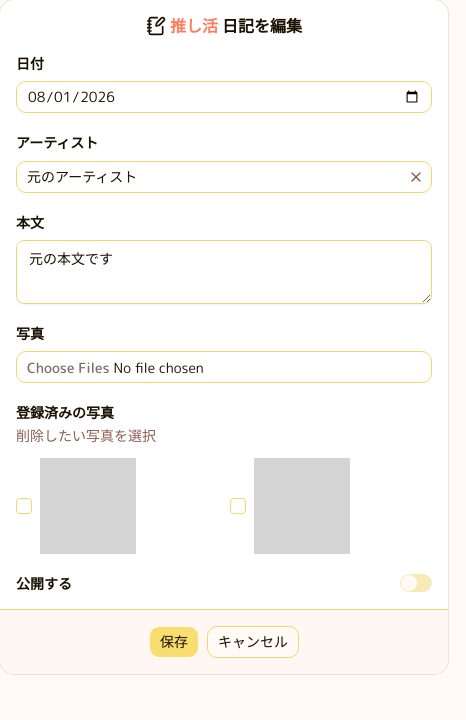
Test: DiaryEditForm › 日付・本文を空にして送信するとバリデーションエラーを表示する
The width and height of the screenshot is (466, 720).
Clear the date field labelled "日付": (224, 97) [16,81,432,113]
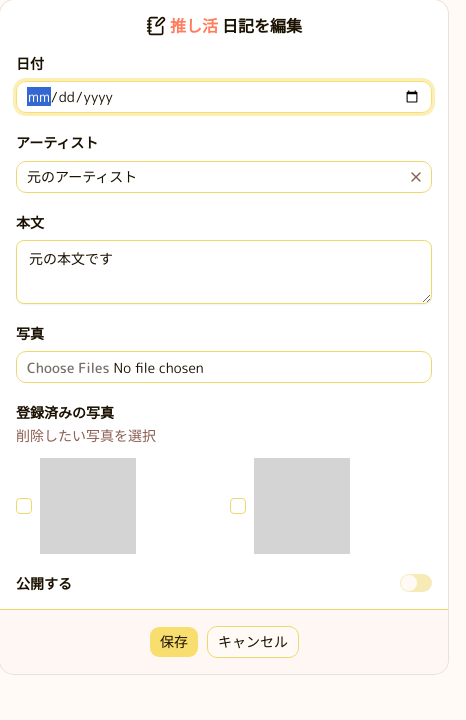
Clear the text box labelled "本文": (224, 272) [16,240,432,304]
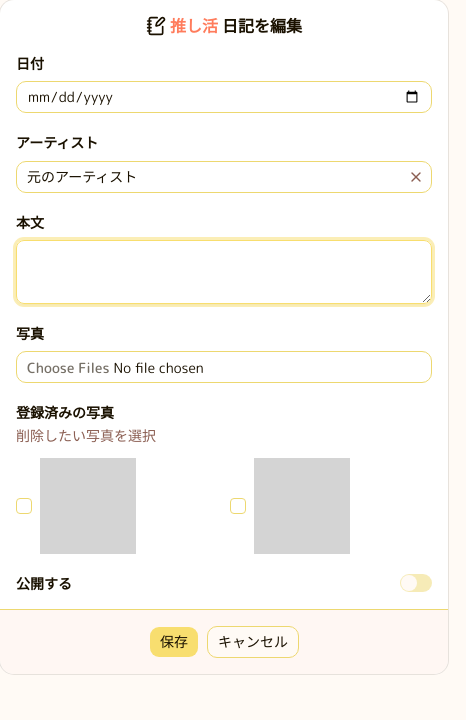
Click the button "保存": (174, 642) [149,626,199,658]
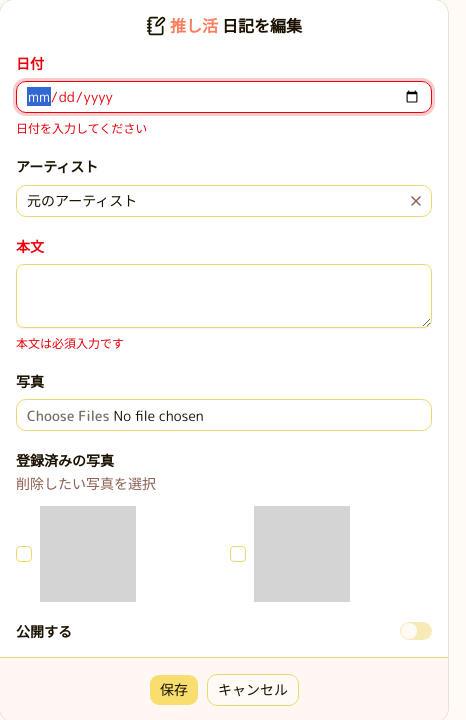
Result: the text "日付を入力してください" is shown at [16,120,147,137]
Result: the text "本文は必須入力です" is shown at [16,335,124,352]
